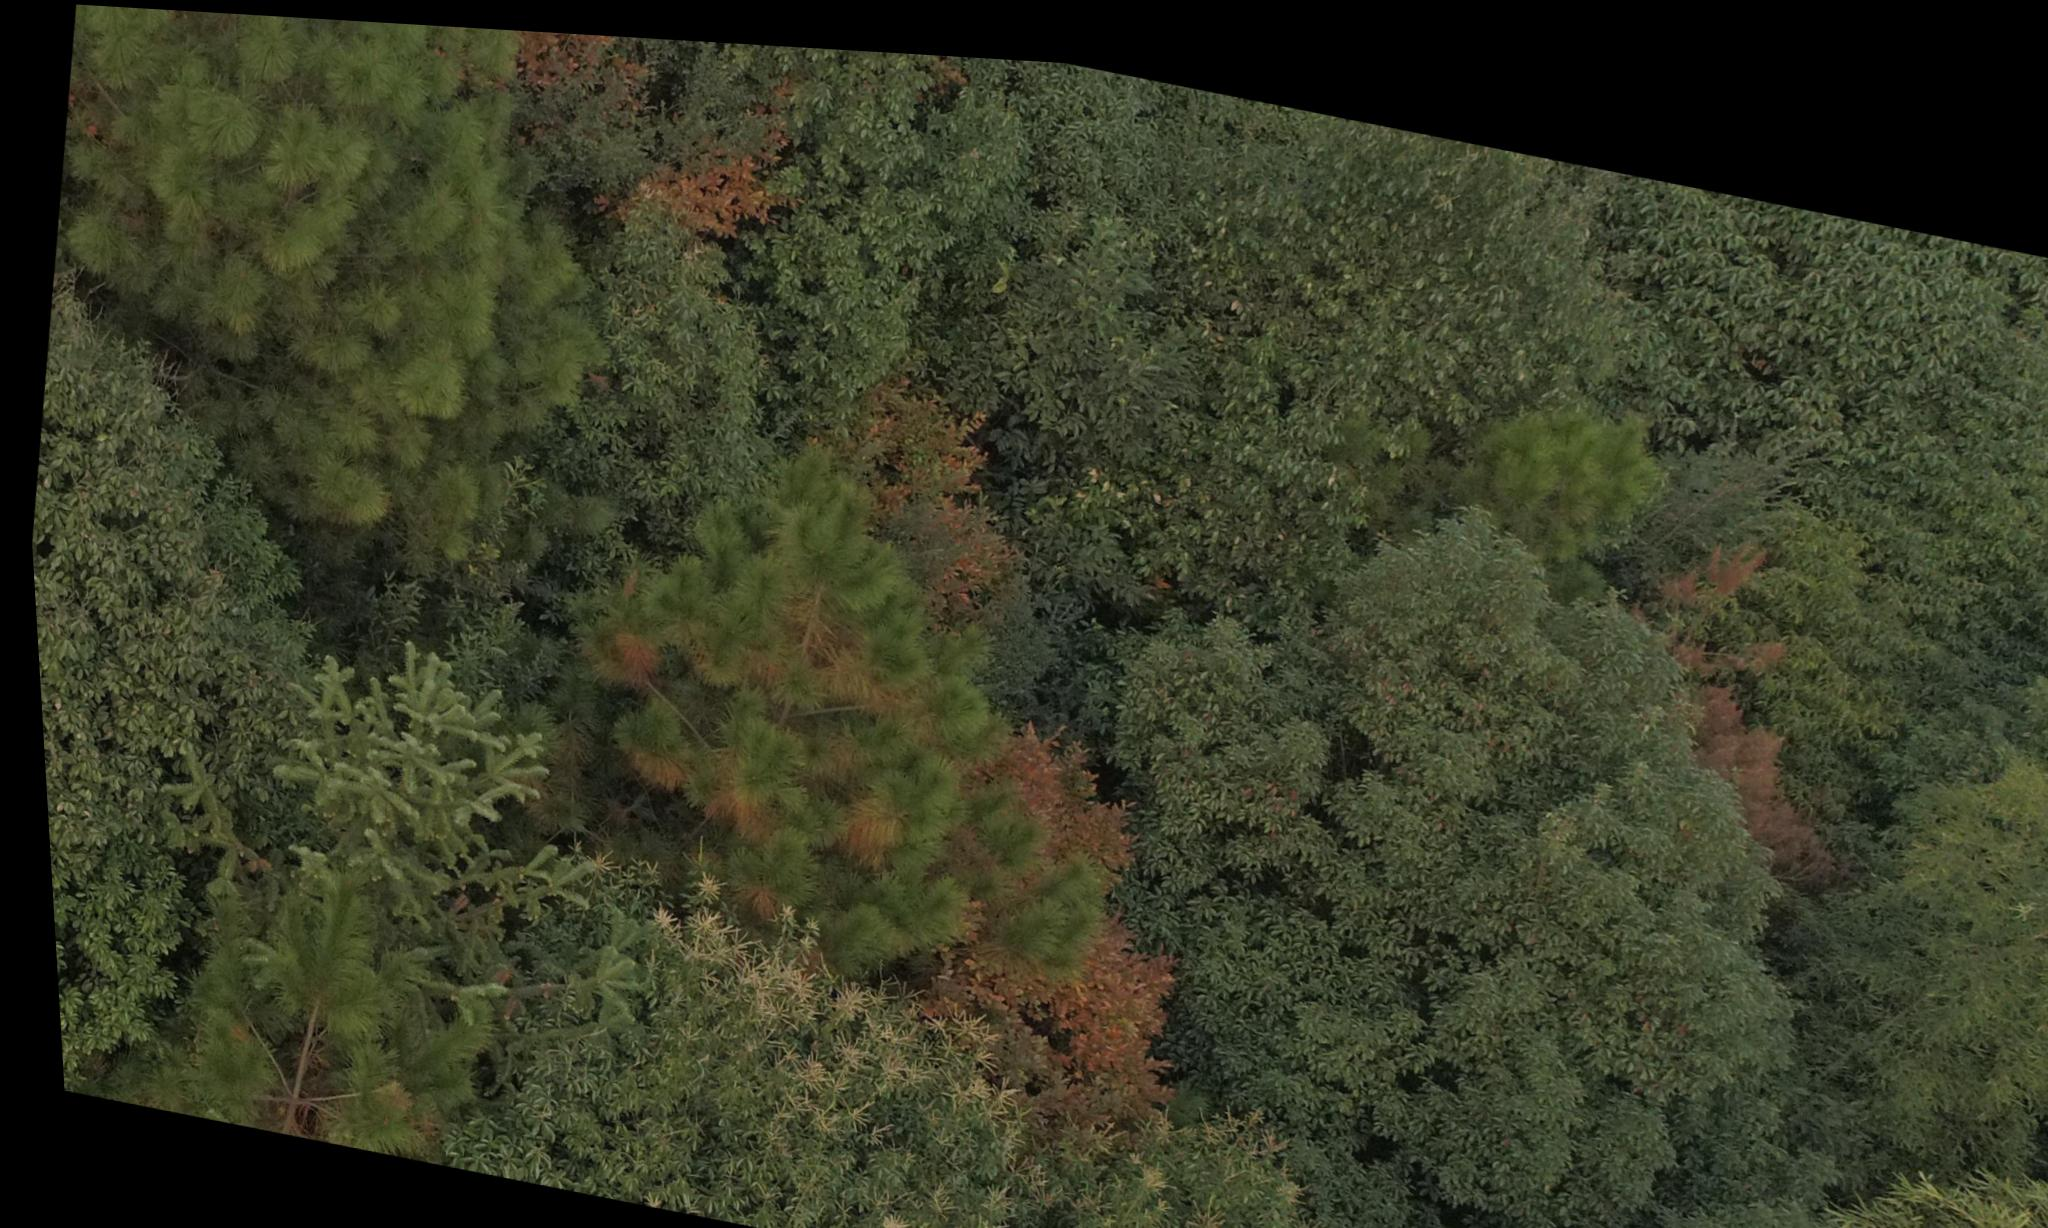heavy: (1626, 513, 1843, 855)
light: (536, 422, 1069, 1019)
